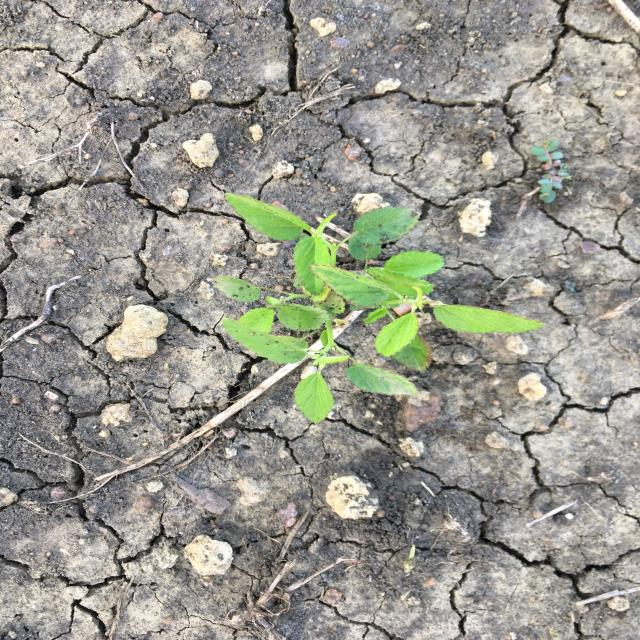PricklySida: (211, 192, 548, 427)
SpottedSpurge: (523, 138, 572, 202)
